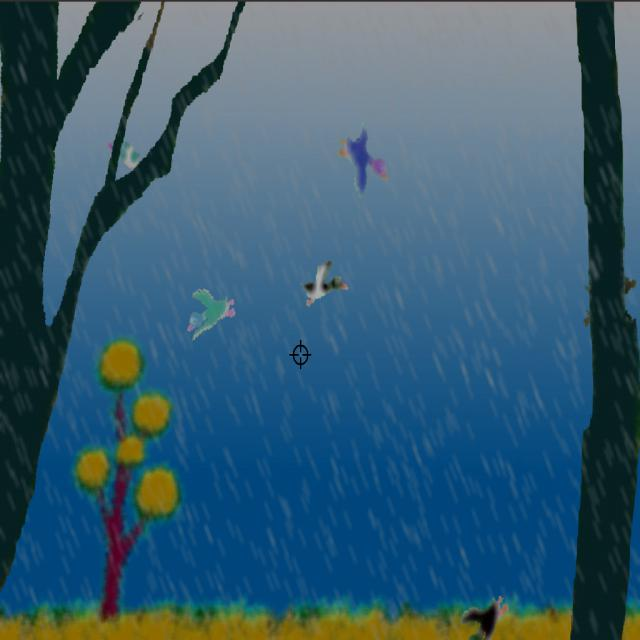duck: (337, 121, 390, 196), (187, 280, 238, 347), (300, 257, 351, 307), (105, 130, 150, 178)
falling_duck: (456, 593, 515, 639)
